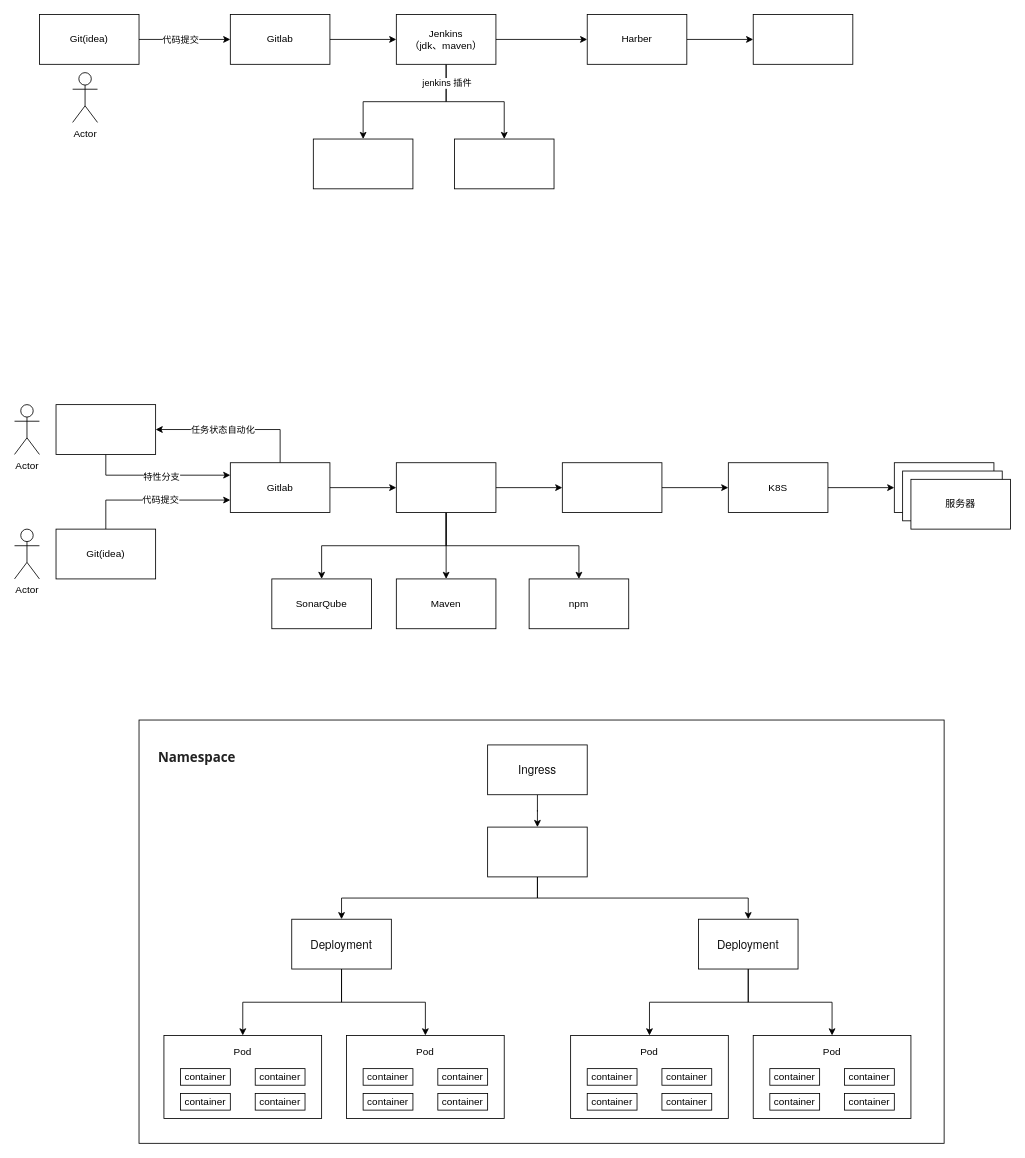
Some shapes in this 1025 by 1158 pixel diagram are drawn without their labels. The shapes that lost their labels are listed below. From the top down, each one's centre as x and y in pixels, then its label:
At (x=802, y=39): "服务器 (docker)".
At (x=362, y=163): "Git Parameter".
At (x=504, y=163): "Publish Over SSH".
At (x=105, y=429): "JIRA".
At (x=445, y=487): "Jenkins jdk maven".
At (x=611, y=487): "HARBOR （Docker）".
At (x=537, y=851): "Service".
